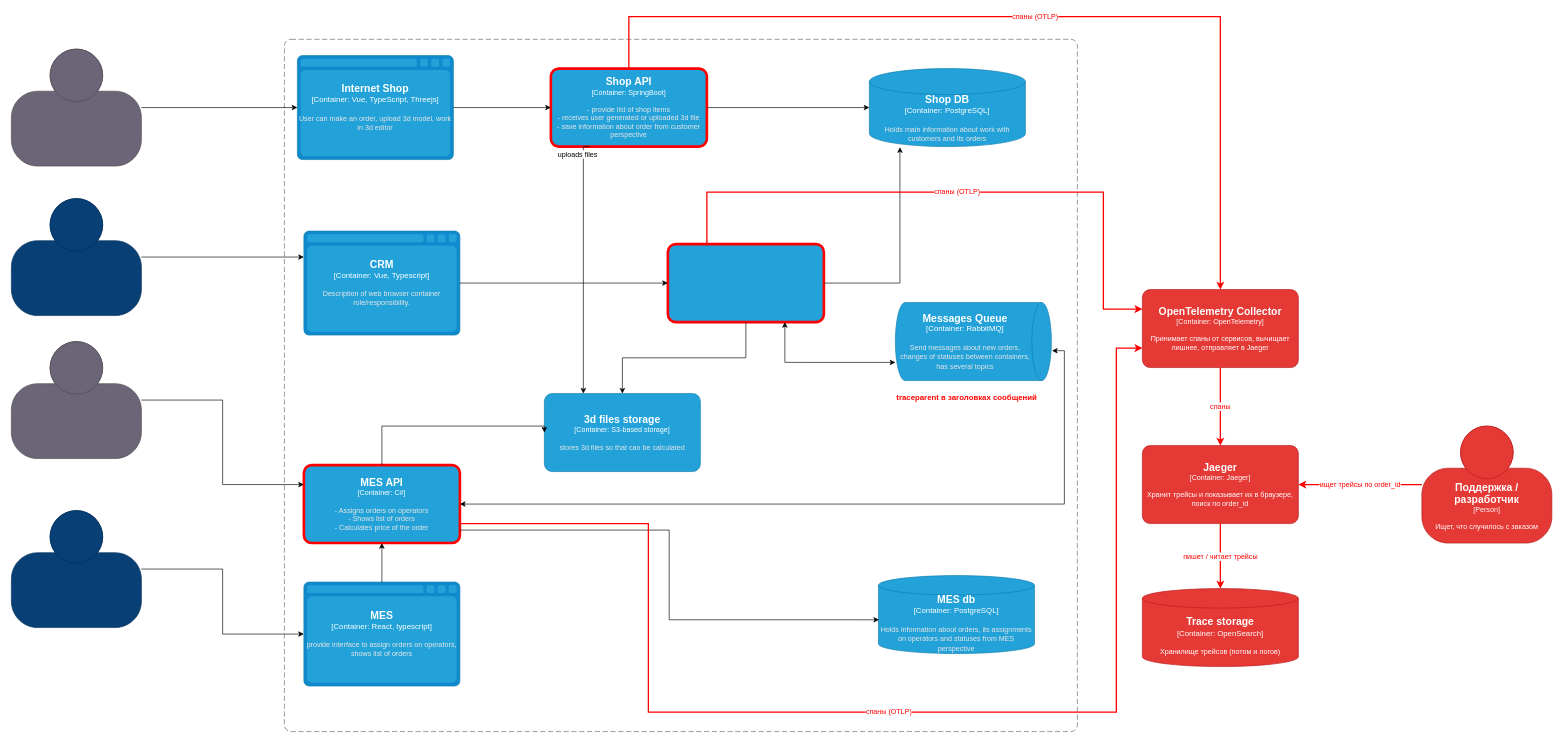
Image size: 1563x743. Some labels were removed from this diagram. The box of each missing label's shape, as (x1, y1, x2, y2) in pixels:
API user [Person] Description of external person.: (11, 341, 141, 459)
CRM API [Container: SpringBoot] Description of container role/responsibility.: (666, 242, 825, 323)
Customer [Person] Description of external person.: (11, 48, 141, 166)
Jewerly Store System [Software System]: (284, 39, 1077, 732)
Operator [Person] Takes order in work, manufactures jewerly: (11, 510, 141, 628)
Seller [Person] Operates with order, confirms manufacturing for the user: (11, 198, 141, 316)
